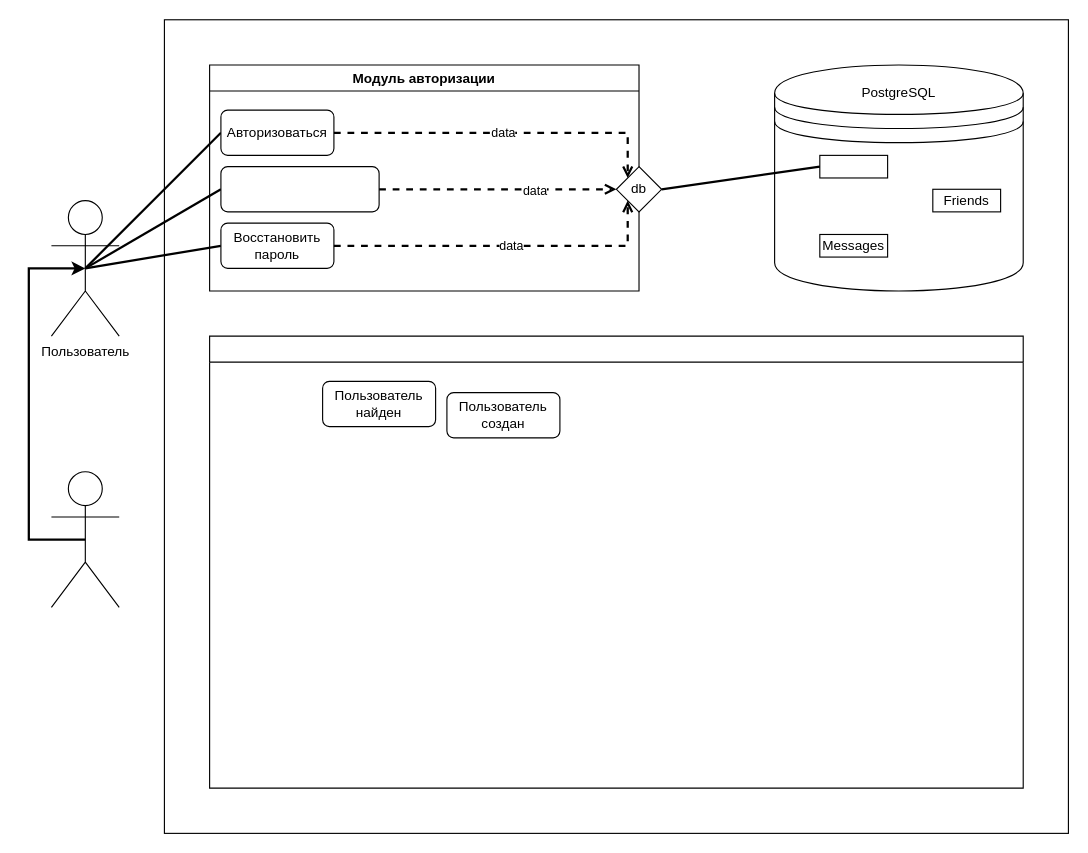
The diagram is 1088 pixels wide and 853 high, and some of its shapes have lost their labels. The box of each missing label's shape, as (x1, y1, x2, y2) in pixels:
Users: (819, 154, 888, 178)
Авторизованный пользователь: (50, 471, 119, 607)
Зарегистрироваться: (220, 166, 379, 212)
Модуль приложения: (208, 335, 1023, 788)
